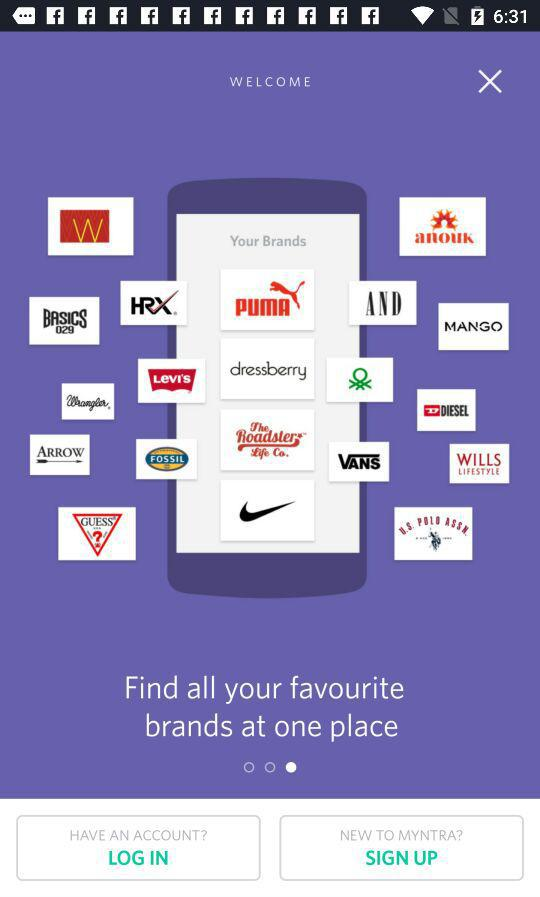Icon: (478, 69, 503, 95)
Image: (29, 177, 510, 599)
PageIndicator: (243, 761, 298, 775)
Text: (126, 674, 405, 743), (229, 77, 311, 89)
TextButton: (279, 815, 524, 881), (17, 815, 262, 881)
UpperTaskBar: (1, 1, 540, 33)
